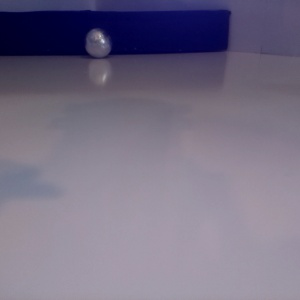zone: (1, 9, 231, 55)
